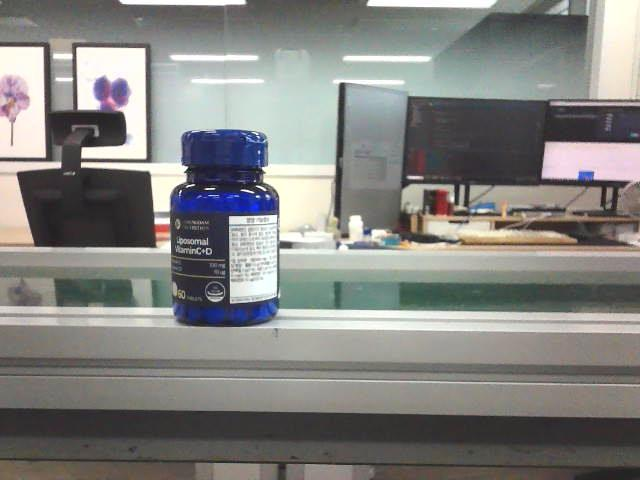labeled: (165, 125, 282, 331)
